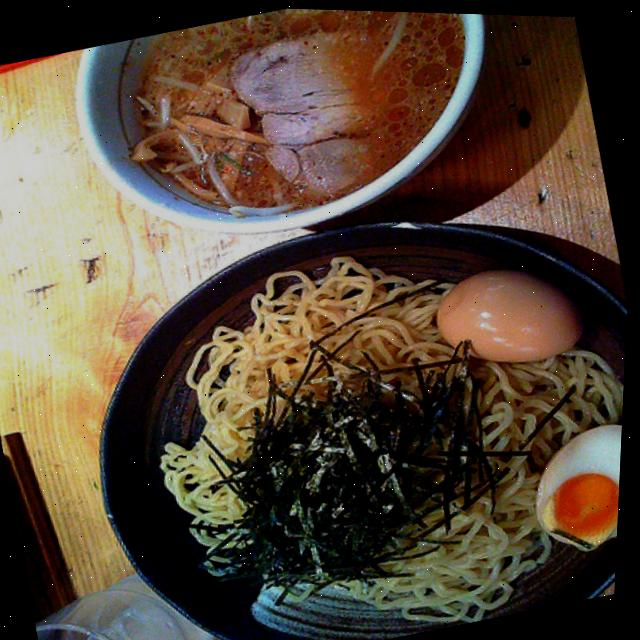面条主食: (71, 2, 640, 640)
